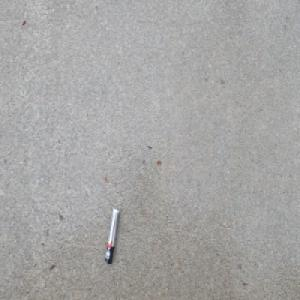Battery: (104, 205, 120, 266)
